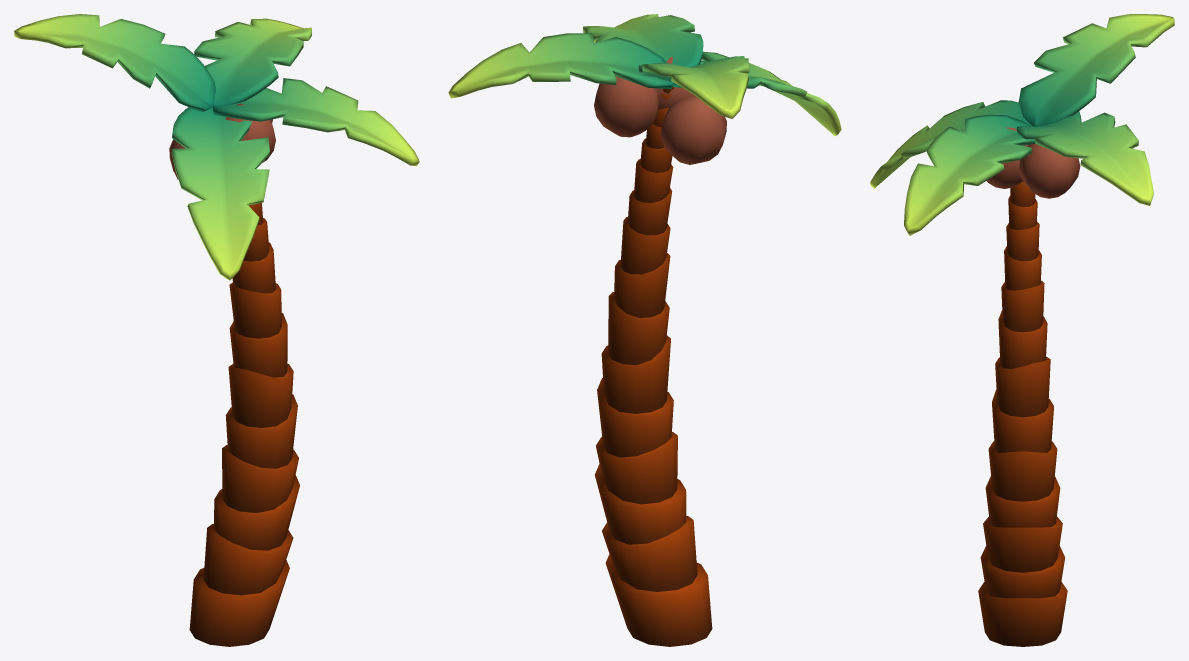
The model's file is palm.fbx.
The picture shows the model from 3 angles, left to right: view 1: azimuth 30°, elevation 25°; view 2: azimuth 150°, elevation 25°; view 3: azimuth 270°, elevation 25°; orthographic projection. The views are drawn at different scales.
Parts seen in each view (by area): view 1: palm; view 2: palm; view 3: palm.
Part boxes in pixels (bbox=[...]): palm: bbox=[14, 14, 419, 646]; palm: bbox=[448, 14, 841, 646]; palm: bbox=[870, 14, 1174, 646].
Size of the model in its own units: 502 by 1007 by 496.
